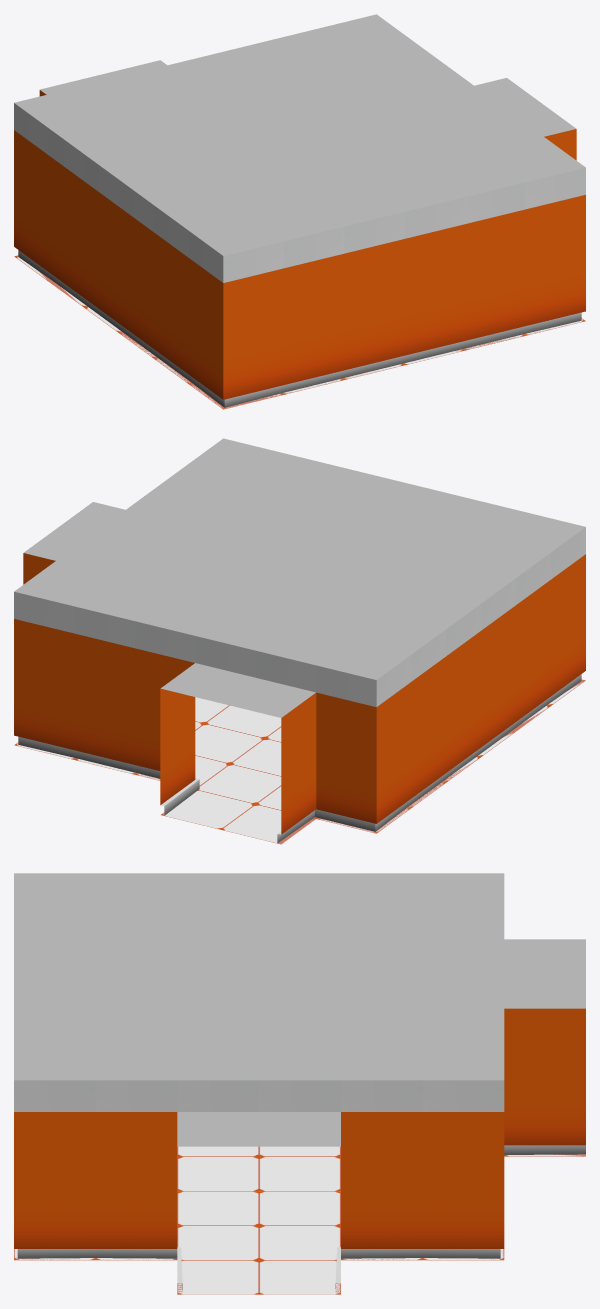
File: SalaGrande1SaidaEng.fbx
The picture shows the model from 3 angles, top to bottom: view 1: azimuth 30°, elevation 25°; view 2: azimuth 150°, elevation 25°; view 3: azimuth 270°, elevation 25°; orthographic projection. The views are drawn at different scales.
Visible parts, largest first — view 1: SalaGrande1SaidaEng; view 2: SalaGrande1SaidaEng; view 3: SalaGrande1SaidaEng.
Boxes of the visible parts, box(x1,y1,x2,y2) form: SalaGrande1SaidaEng: box(14, 14, 585, 409); SalaGrande1SaidaEng: box(14, 438, 585, 844); SalaGrande1SaidaEng: box(14, 873, 585, 1294).
Size of the model in its own units: 700 by 243 by 700.
Materials: 1 (1 with a texture image).
